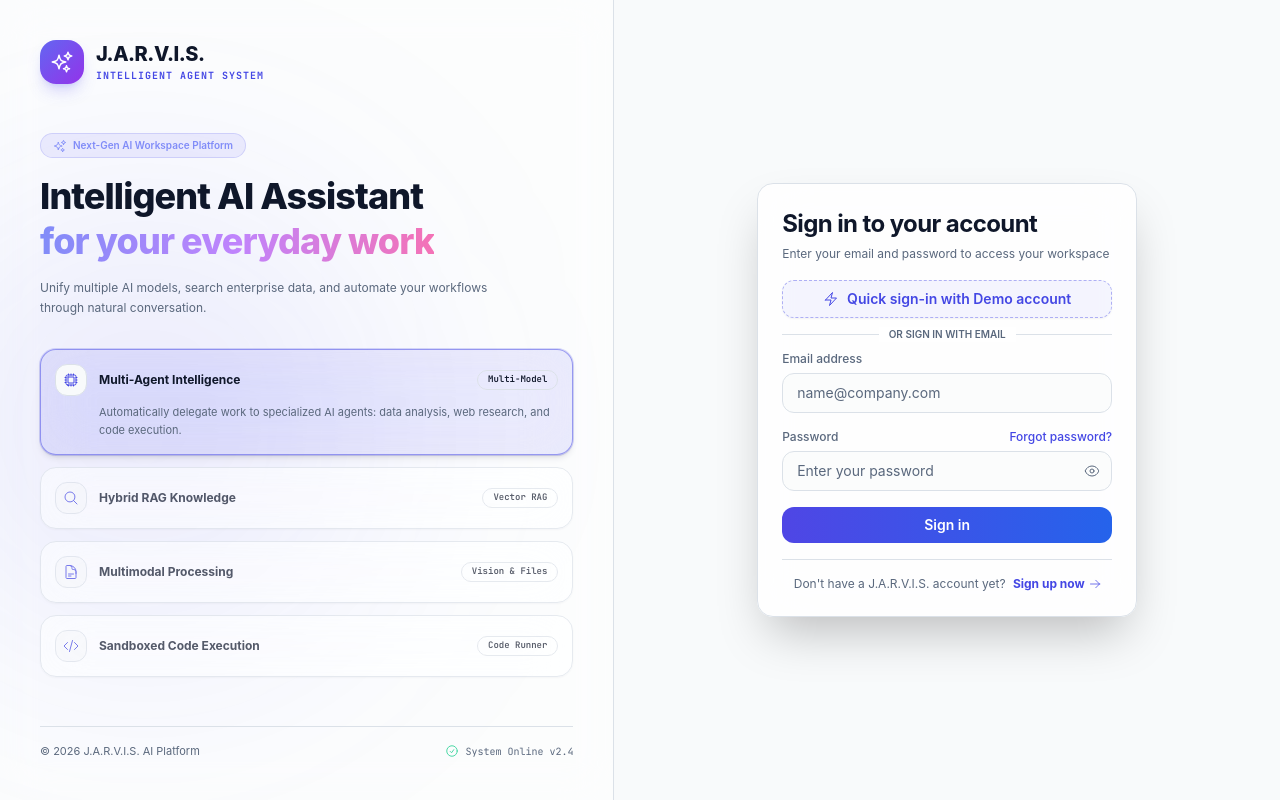
Test: LoginPage › shows the translated fallback toast when demo login fails (en)
The image size is (1280, 800).
Step 1. Click the button "Quick sign-in with Demo account" → (947, 299), box [782, 280, 1112, 318]
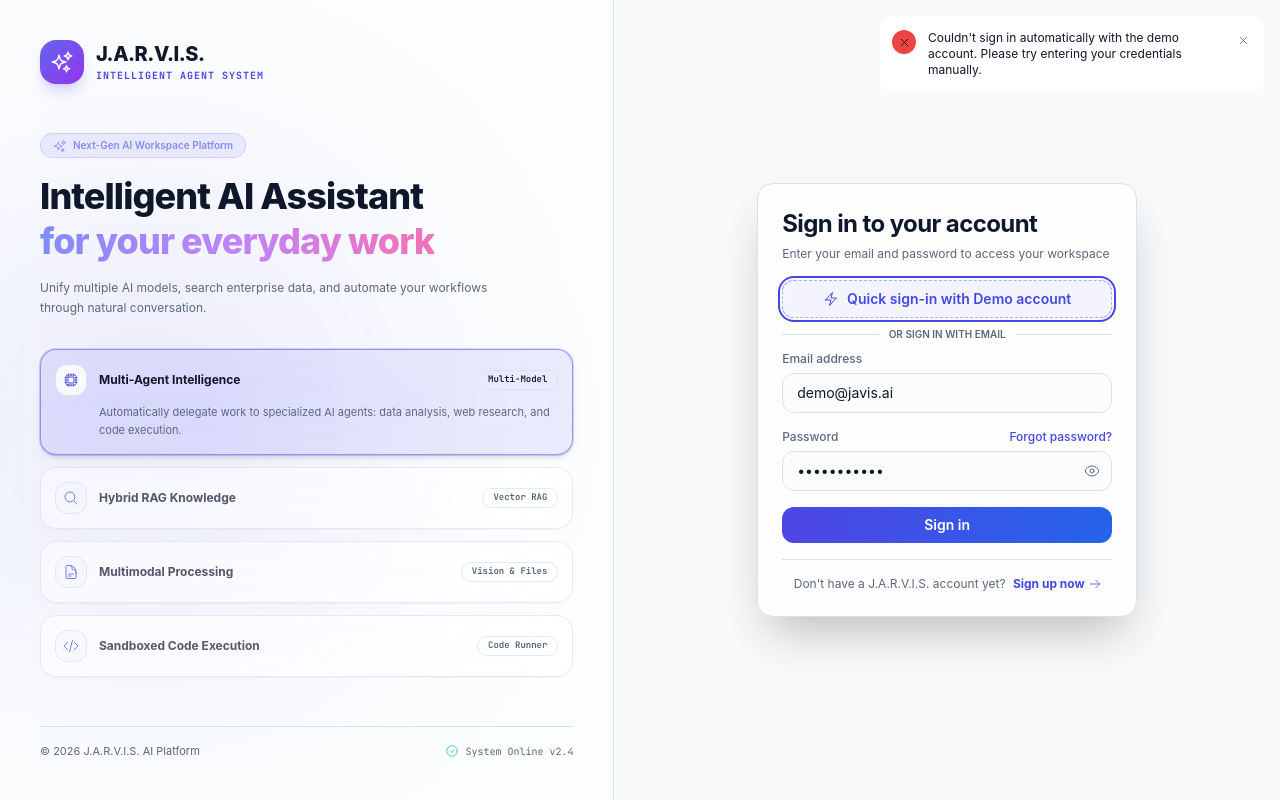
Expected: the text "Couldn't sign in automatically with the demo account. Please try entering your credentials manually." is shown, [928, 30, 1182, 77]
